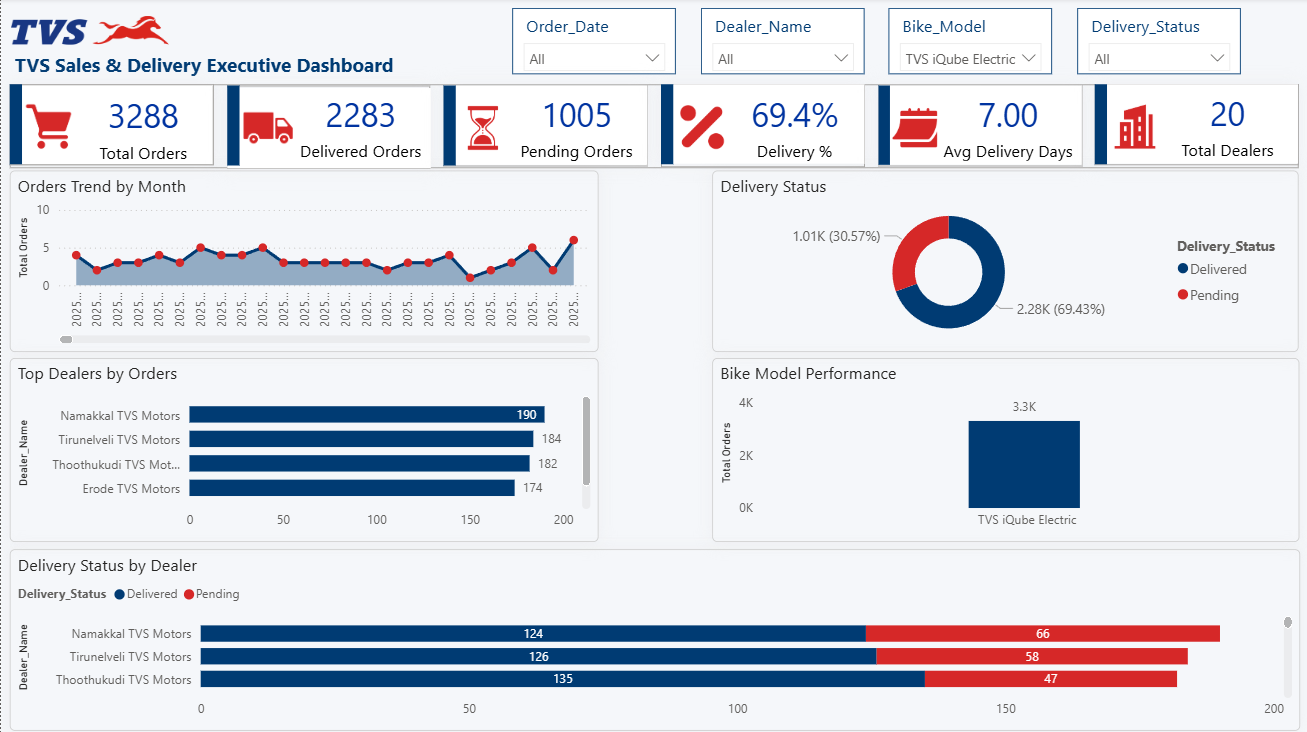

Layout of this report page (visuals, bound fields, positions):
{"tool":"powerbi","page":{"name":"Executive Dashboard","canvas":[1280,720],"ordinal":0},"visuals":[{"type":"image","box":[9.8,2.4,154.1,58.7],"z":0},{"type":"textbox","box":[8.6,47.7,382.7,40.4],"z":1000},{"type":"shape","box":[645.8,84.2,199.1,77.9],"z":2000,"group":"g4"},{"type":"shape","box":[1071.9,84.2,197.7,77.9],"z":2000,"group":"g6"},{"type":"shape","box":[433.4,85.6,199.1,77.9],"z":2000,"group":"g3"},{"type":"lineChart","title":"Orders Trend by Month","fields":{"Category":["orders.Order_Date"],"Y":["orders.Total Orders"]},"box":[8.2,169.2,576,177.3],"z":2000},{"type":"group","id":"g1","title":"Group 1","box":[8.7,84.2,199.6,80],"z":3000,"group":"g7"},{"type":"shape","box":[1070.6,84.6,12.2,78.3],"z":3000,"group":"g6"},{"type":"donutChart","title":"Delivery Status","fields":{"Category":["orders.Delivery_Status"],"Y":["CountNonNull(orders.Order_ID)"]},"box":[695.4,169.2,573.5,177.3],"z":3000},{"type":"group","id":"g2","title":"Group 2","box":[221.1,85.6,199.1,80.8],"z":3500,"group":"g7"},{"type":"card","fields":{"Values":["orders.Total Dealers"]},"box":[1132.5,84.2,135.6,79.4],"z":4000,"group":"g6"},{"type":"group","id":"g3","title":"Group 3","box":[433.4,85.6,199.1,79.4],"z":4000,"group":"g7"},{"type":"barChart","title":"Top Dealers by Orders","fields":{"Category":["orders.Dealer_Name"],"Y":["orders.Total Orders"]},"box":[8.2,352.8,576,179.8],"z":4000},{"type":"shape","title":"Shape 5","box":[859.4,86.1,197.9,77.4],"z":4500,"group":"g5"},{"type":"shape","box":[645.8,84.2,12.2,78.3],"z":5000,"group":"g4"},{"type":"group","id":"g4","title":"Group 4","box":[645.8,84.2,199.1,80.8],"z":5000,"group":"g7"},{"type":"shape","title":"rectangle","box":[858.2,85.6,11.6,77.7],"z":5000,"group":"g5"},{"type":"image","box":[1084.5,102.2,51.4,46.5],"z":5000,"group":"g6"},{"type":"clusteredColumnChart","title":"Bike Model Performance","fields":{"Category":["orders.Bike_Model"],"Y":["orders.Total Orders"]},"box":[695.4,352.8,574.7,179.8],"z":5000},{"type":"shape","box":[433.4,85.6,12.2,78.3],"z":6000,"group":"g3"},{"type":"group","id":"g5","title":"Group 5","box":[858.2,85.6,199.1,79.4],"z":6000,"group":"g7"},{"type":"card","fields":{"Values":["orders.Avg Delivery Days"]},"box":[915.4,86.1,139.2,78.8],"z":6000,"group":"g5"},{"type":"barChart","title":"Delivery Status by Dealer","fields":{"Category":["orders.Dealer_Name"],"Series":["orders.Delivery_Status"],"Y":["orders.Total Orders"]},"box":[8.7,539.6,1262.4,177.5],"z":6000},{"type":"slicer","fields":{"Values":["orders.Order_Date"]},"box":[500.1,9.8,160.2,64.8],"z":7000},{"type":"group","id":"g6","title":"Group 6","box":[1070.6,84.2,199.1,79.4],"z":7000,"group":"g7"},{"type":"image","box":[870.8,104,48,46.2],"z":7000,"group":"g5"},{"type":"shape","title":"Shape 1","box":[9,84.2,199.1,79.4],"z":7500,"group":"g1"},{"type":"group","id":"g7","title":"Group 7","box":[8.7,84.2,1261,82.2],"z":8000},{"type":"shape","title":"rectangle","box":[8.7,84.7,12.2,78.3],"z":8000,"group":"g1"},{"type":"card","fields":{"Values":["orders.Delivery %"]},"box":[707.8,85.6,137.1,79.4],"z":8000,"group":"g4"},{"type":"shape","title":"Shape 2","box":[221.1,87.6,199.3,78.3],"z":8500,"group":"g2"},{"type":"slicer","fields":{"Values":["orders.Dealer_Name"]},"box":[684.4,9.8,160.2,64.8],"z":9000},{"type":"shape","title":"rectangle","box":[221.6,85.6,12.2,78.3],"z":9000,"group":"g2"},{"type":"image","box":[660.6,103.7,51.4,46.5],"z":9000,"group":"g4"},{"type":"slicer","fields":{"Values":["orders.Delivery_Status"]},"box":[1052.9,9.8,160.2,64.8],"z":10000},{"type":"card","fields":{"Values":["orders.Pending Orders"]},"box":[494,85.6,138.5,79.4],"z":10000,"group":"g3"},{"type":"slicer","fields":{"Values":["orders.Bike_Model"]},"box":[868.6,9.8,160.2,64.8],"z":11000},{"type":"image","box":[446.8,103.9,51.4,46.5],"z":11000,"group":"g3"},{"type":"card","fields":{"Values":["orders.Total Orders"]},"box":[71.3,89.6,137,74.6],"z":14000,"group":"g1"},{"type":"image","box":[23.6,102.6,51,46],"z":15000,"group":"g1"},{"type":"card","fields":{"Values":["orders.Delivered Orders"]},"box":[284,85.6,137,79.5],"z":16000,"group":"g2"},{"type":"image","box":[236.3,103.7,51.4,46.5],"z":17000,"group":"g2"}]}

Visuals, with their boxes in screenshot pixels (x1, y1, x2, y2), scaled from the page's 1280x720 canvas onto the 1307x732 screenshot:
image: (10, 2, 167, 62)
textbox: (9, 48, 400, 90)
shape: (659, 86, 863, 165)
shape: (1095, 86, 1296, 165)
shape: (443, 87, 646, 166)
"Orders Trend by Month" lineChart: (8, 172, 597, 352)
"Group 1" group: (9, 86, 213, 167)
shape: (1093, 86, 1106, 166)
"Delivery Status" donutChart: (710, 172, 1296, 352)
"Group 2" group: (226, 87, 429, 169)
card - orders.Total Dealers: (1156, 86, 1295, 166)
"Group 3" group: (443, 87, 646, 168)
"Top Dealers by Orders" barChart: (8, 359, 597, 541)
"Shape 5" shape: (878, 88, 1080, 166)
shape: (659, 86, 672, 165)
"Group 4" group: (659, 86, 863, 168)
"rectangle" shape: (876, 87, 888, 166)
image: (1107, 104, 1160, 151)
"Bike Model Performance" clusteredColumnChart: (710, 359, 1297, 541)
shape: (443, 87, 455, 167)
"Group 5" group: (876, 87, 1080, 168)
card - orders.Avg Delivery Days: (935, 88, 1077, 168)
"Delivery Status by Dealer" barChart: (9, 549, 1298, 729)
slicer - orders.Order_Date: (511, 10, 674, 76)
"Group 6" group: (1093, 86, 1296, 166)
image: (889, 106, 938, 153)
"Shape 1" shape: (9, 86, 212, 166)
"Group 7" group: (9, 86, 1296, 169)
"rectangle" shape: (9, 86, 21, 166)
card - orders.Delivery %: (723, 87, 863, 168)
"Shape 2" shape: (226, 89, 429, 169)
slicer - orders.Dealer_Name: (699, 10, 862, 76)
"rectangle" shape: (226, 87, 239, 167)
image: (675, 105, 727, 153)
slicer - orders.Delivery_Status: (1075, 10, 1239, 76)
card - orders.Pending Orders: (504, 87, 646, 168)
slicer - orders.Bike_Model: (887, 10, 1051, 76)
image: (456, 106, 509, 153)
card - orders.Total Orders: (73, 91, 213, 167)
image: (24, 104, 76, 151)
card - orders.Delivered Orders: (290, 87, 430, 168)
image: (241, 105, 294, 153)
